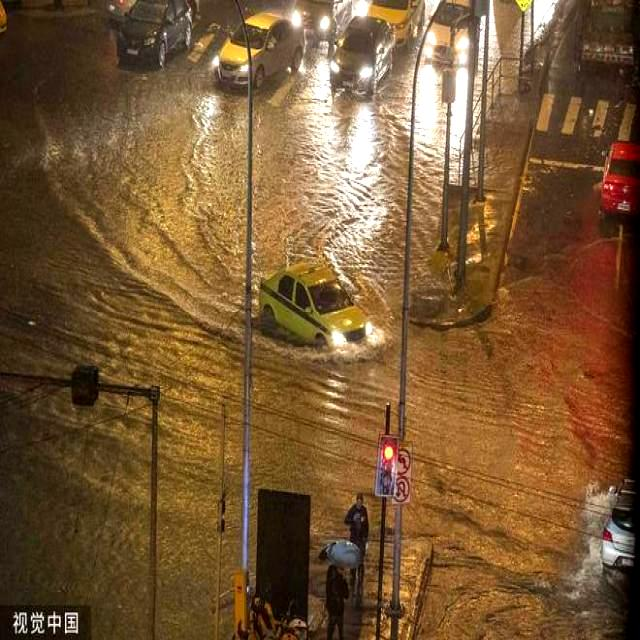civilian: (318, 544, 358, 636), (340, 489, 381, 574)
